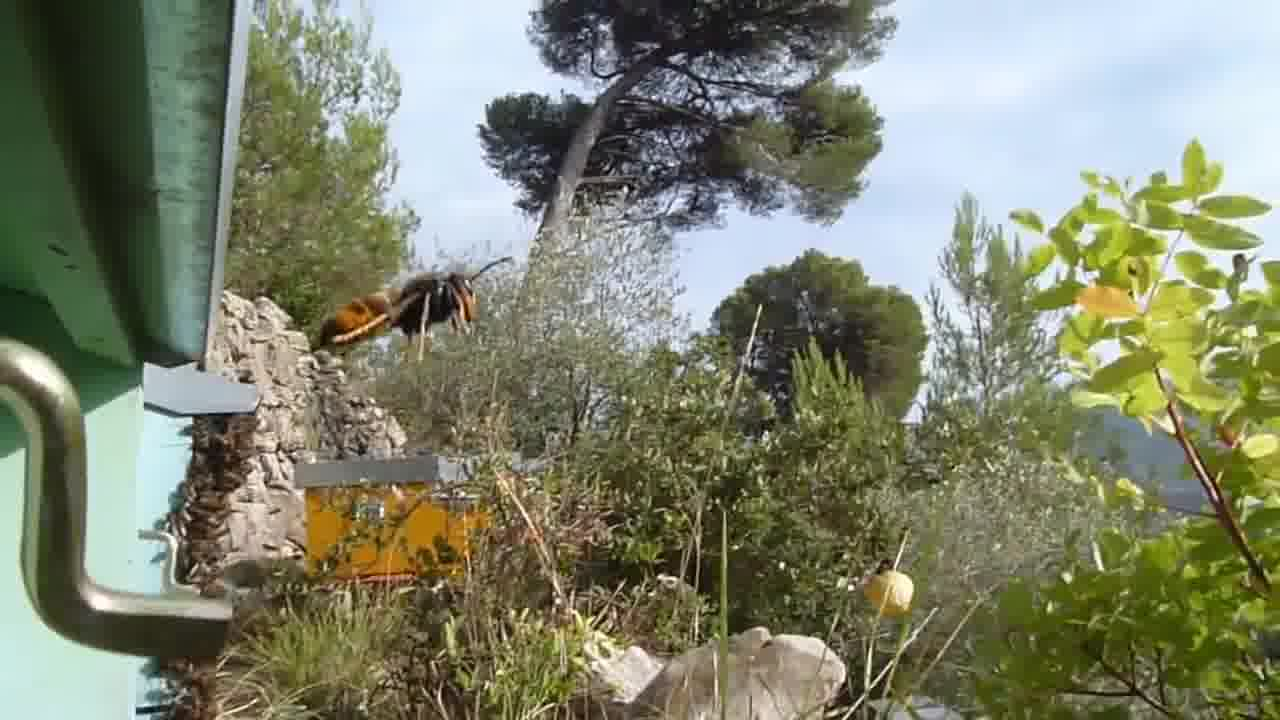bee: (174, 415, 260, 501), (161, 510, 238, 586)
hornet: (312, 258, 508, 368)
